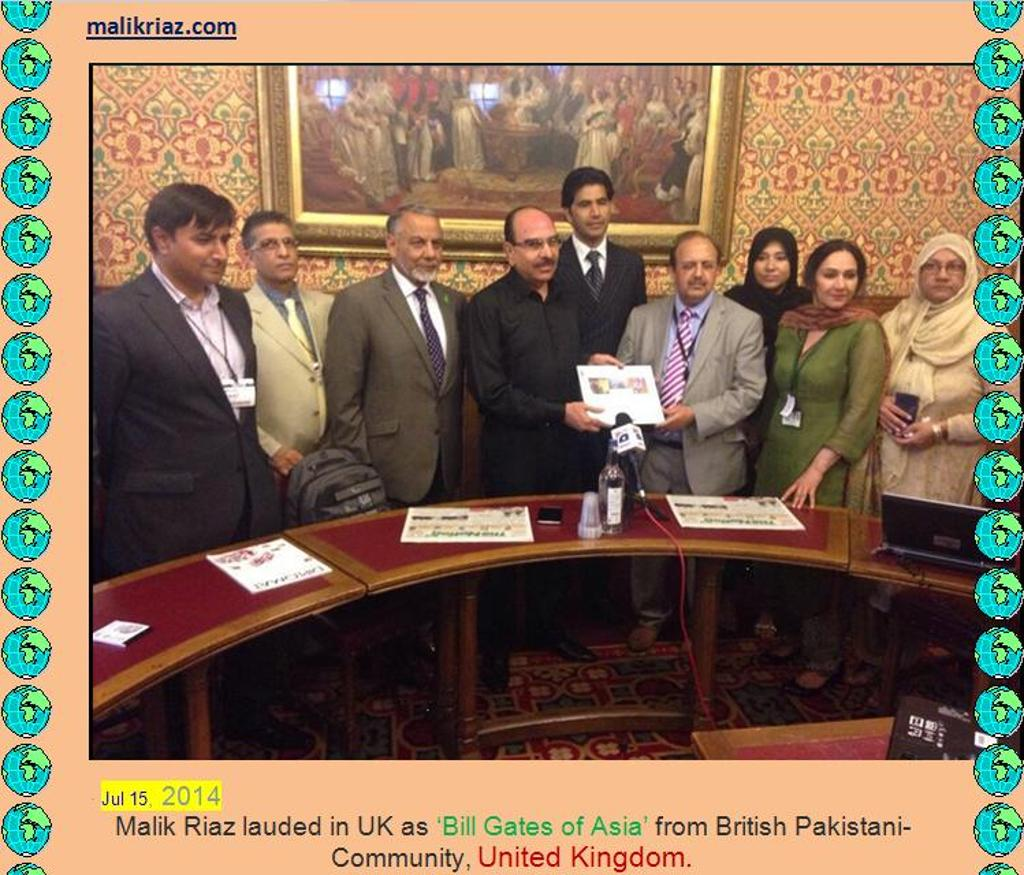face: (171, 218, 230, 284), (396, 212, 444, 280), (515, 216, 558, 281), (253, 222, 299, 280), (815, 253, 857, 310), (919, 250, 964, 303), (674, 242, 717, 297), (571, 186, 610, 236), (751, 239, 790, 288), (686, 127, 699, 148), (374, 73, 384, 87), (356, 80, 365, 95), (313, 104, 322, 117), (619, 76, 627, 88), (572, 82, 580, 94), (459, 69, 466, 82), (308, 75, 315, 88), (397, 65, 406, 75), (598, 113, 605, 125), (413, 65, 422, 74), (591, 115, 597, 127), (653, 86, 660, 96), (431, 67, 438, 77), (618, 99, 625, 109), (686, 82, 692, 93), (639, 79, 645, 90), (605, 81, 613, 89), (534, 87, 542, 95), (672, 78, 678, 88), (592, 87, 598, 97), (447, 69, 452, 81), (517, 69, 523, 78), (696, 98, 701, 108)
